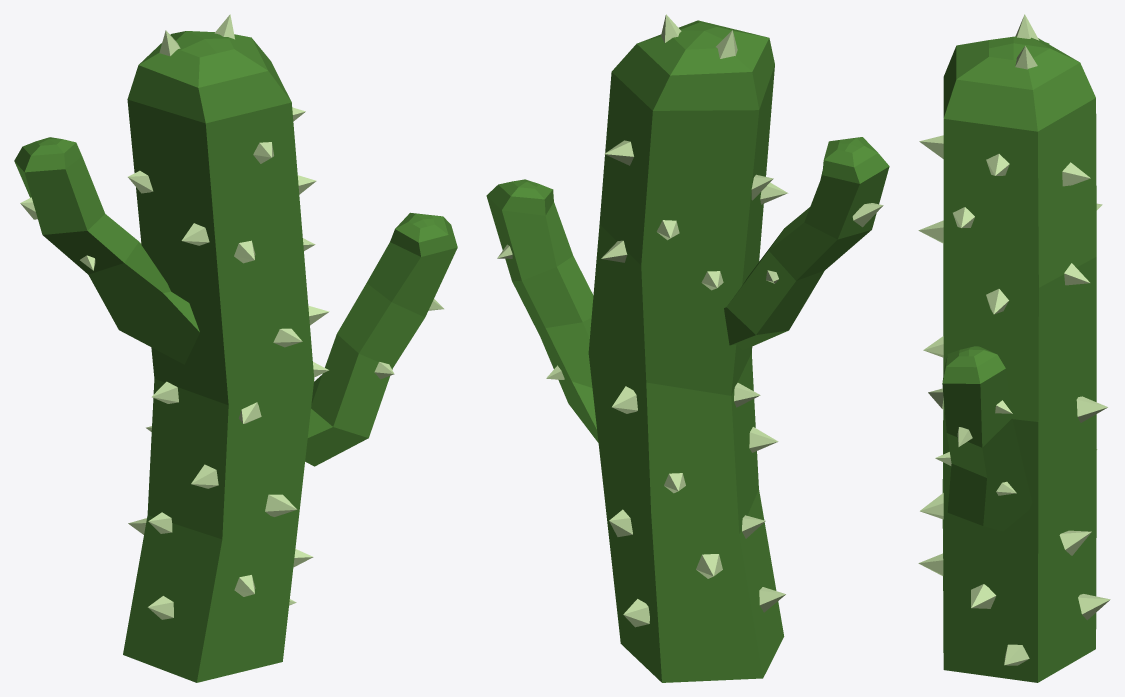
The model's file is cc_cactus1.fbx.
3 renders of one model, left to right at view 1: azimuth 30°, elevation 25°; view 2: azimuth 150°, elevation 25°; view 3: azimuth 270°, elevation 25°, orthographic. The views are drawn at different scales.
Parts seen in each view (by area): view 1: Cylinder, Cone.030; view 2: Cylinder, Cone.030; view 3: Cylinder, Cone.030.
Boxes of the visible parts, x1,y1,x2,y2 form: Cylinder: (14,31,457,682); Cone.030: (20,14,443,619); Cylinder: (486,20,889,682); Cone.030: (497,14,883,627); Cylinder: (942,36,1096,682); Cone.030: (918,14,1110,665).
Size of the model in its own units: 561 by 810 by 229.
